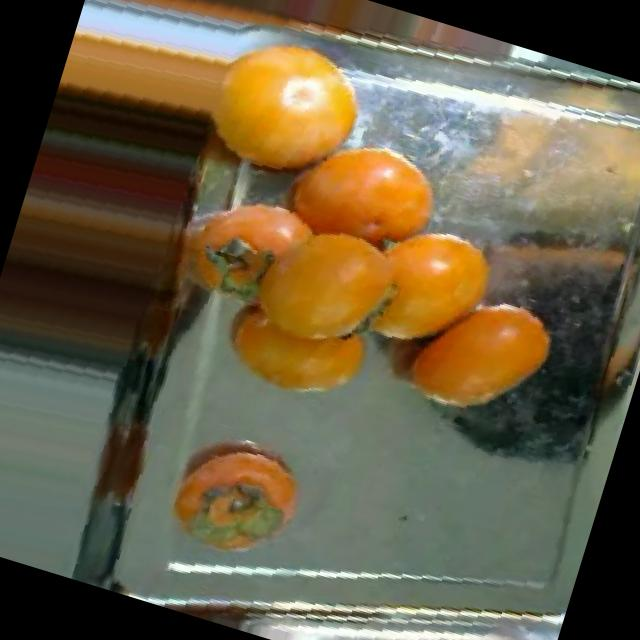Fruit: (423, 67, 640, 286), (185, 222, 409, 433), (380, 264, 574, 452), (258, 107, 468, 277), (142, 406, 332, 584), (332, 205, 514, 378)
